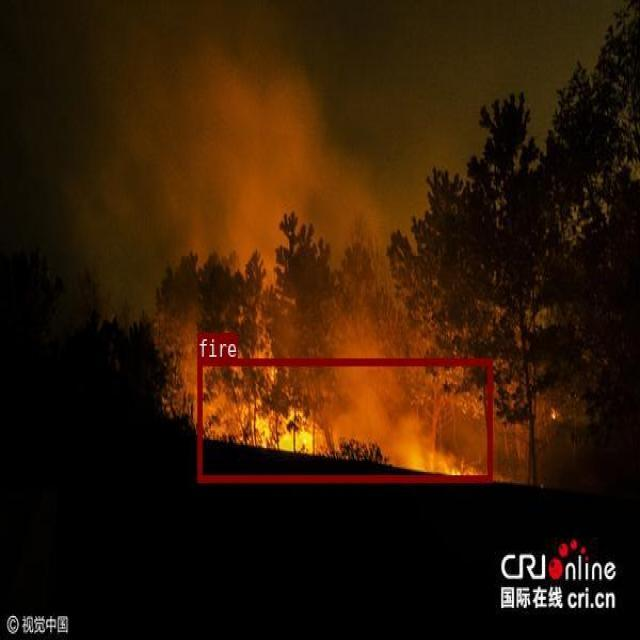fire: (197, 358, 491, 482)
